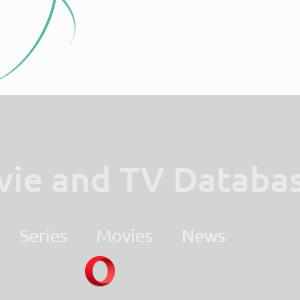opera: (85, 255, 115, 286)
